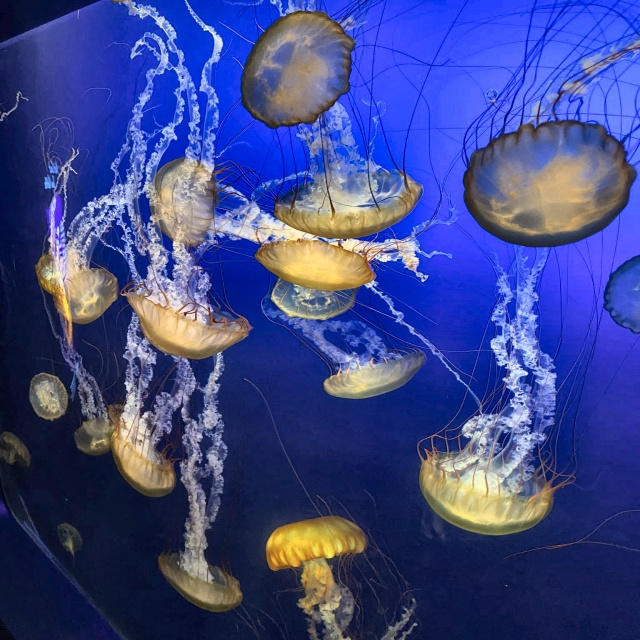jellyfish: (461, 121, 637, 248), (239, 9, 353, 129), (418, 452, 552, 536), (272, 170, 421, 240), (126, 290, 251, 360), (255, 239, 376, 290), (34, 253, 118, 324), (150, 157, 215, 248), (266, 515, 368, 571), (156, 549, 242, 611), (324, 349, 425, 399), (110, 424, 174, 498), (272, 277, 358, 320), (605, 254, 639, 333), (28, 374, 70, 420), (0, 431, 32, 467), (58, 524, 82, 549)
